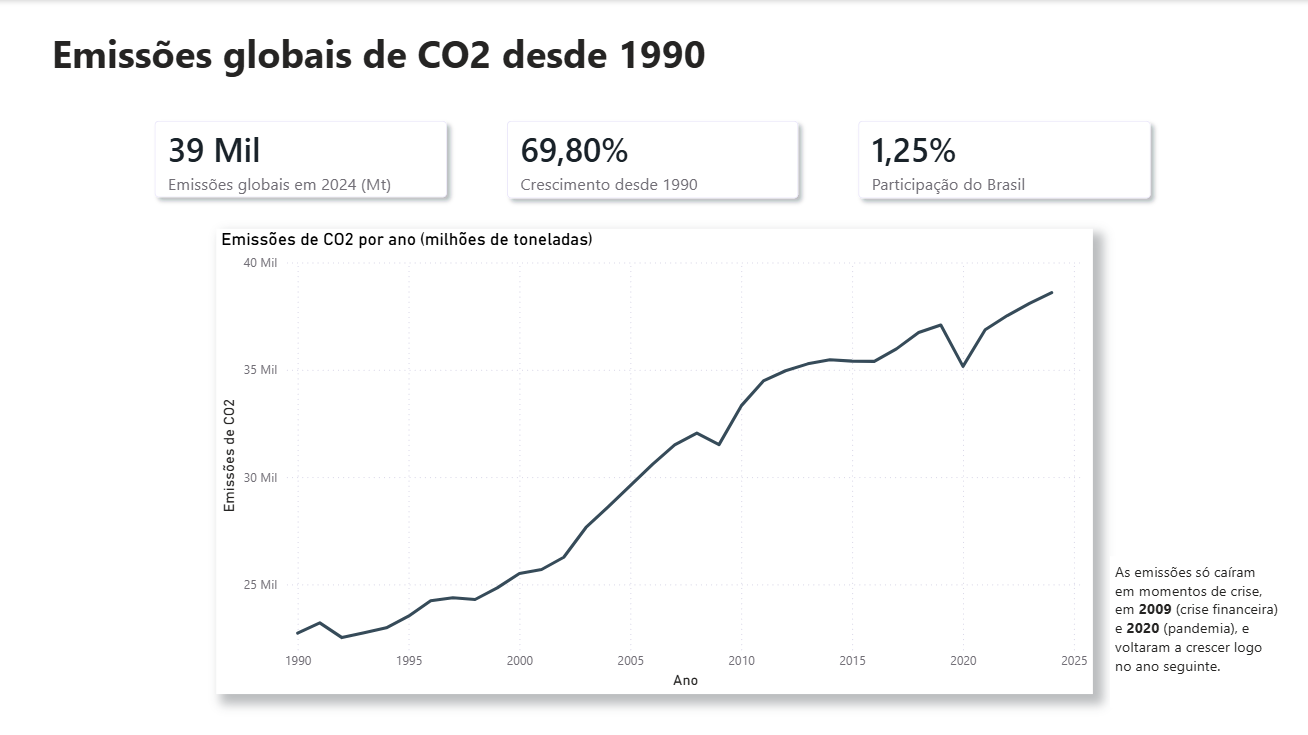

This screenshot's page, from the dashboard's own definition file:
{"tool":"powerbi","page":{"name":"Visão Geral","canvas":[1280,720],"ordinal":0},"visuals":[{"type":"textbox","box":[34.2,22,672.6,67.3],"z":0},{"type":"cardVisual","fields":{"Data":["Emissoes.Emissoes Mundo"]},"box":[122.3,89.3,344.8,133.3],"z":1000},{"type":"cardVisual","fields":{"Data":["Emissoes.Var Mundo desde 1990 %"]},"box":[467.1,89.3,343.6,134.5],"z":2000},{"type":"cardVisual","fields":{"Data":["Emissoes.Participacao Global"]},"box":[810.7,89.3,344.8,134.5],"z":3000},{"type":"lineChart","title":"Emissões de CO2 por ano (milhões de toneladas)","fields":{"Category":["dAno.year"],"Y":["Emissoes.Emissoes Mundo"]},"box":[211.6,223.8,857.2,454.9],"z":4000},{"type":"textbox","box":[1086.2,543.9,181.8,147.9],"z":5000}]}

Visuals, with their boxes in screenshot pixels (x1, y1, x2, y2), scaled from the page's 1280x720 canvas onto the 1308x735 screenshot:
textbox: {"left": 35, "top": 22, "right": 722, "bottom": 91}
cardVisual - Emissoes.Emissoes Mundo: {"left": 125, "top": 91, "right": 477, "bottom": 227}
cardVisual - Emissoes.Var Mundo desde 1990 %: {"left": 477, "top": 91, "right": 828, "bottom": 228}
cardVisual - Emissoes.Participacao Global: {"left": 828, "top": 91, "right": 1181, "bottom": 228}
"Emissões de CO2 por ano (milhões de toneladas)" lineChart: {"left": 216, "top": 228, "right": 1092, "bottom": 693}
textbox: {"left": 1110, "top": 555, "right": 1296, "bottom": 706}
